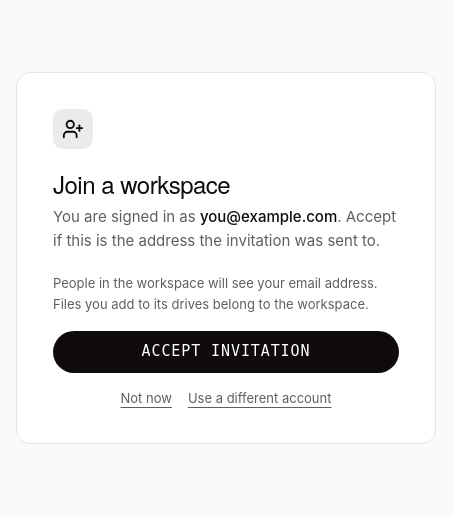
joins only after an explicit action and explains an invitation meant for another address
Expected: the heading "Join a workspace" is shown, [53,166,230,201]
Expected: the text "you@example.com" is shown, [200,207,337,226]
What coordinates should you click on to do the following:
click the button "Accept invitation"
I would click on:
 (226, 352)
Its box is [53,330,399,372].
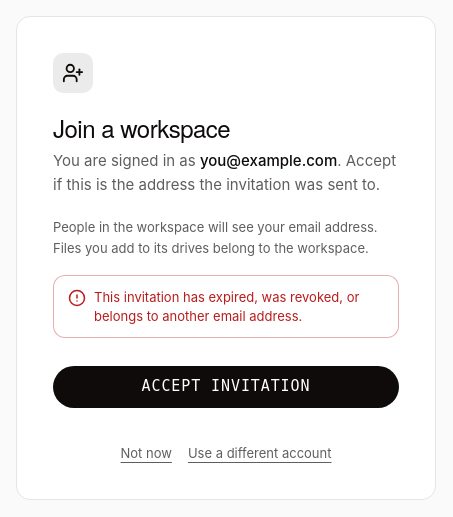
Expected: the button "Accept invitation" is enabled, [53,366,399,408]
Now the message shows "belongs to another email address", box [94,289,359,324]
